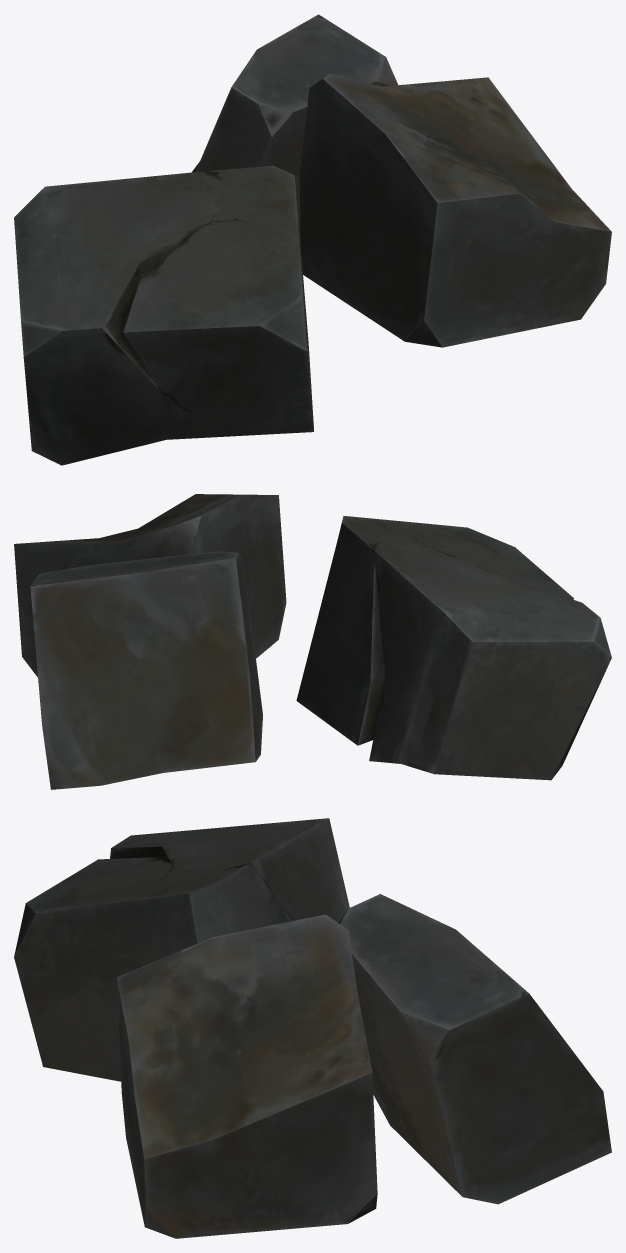
The picture shows the model from 3 angles, top to bottom: view 1: azimuth 30°, elevation 25°; view 2: azimuth 150°, elevation 25°; view 3: azimuth 270°, elevation 25°; orthographic projection. The views are drawn at different scales.
Visible parts, largest first — view 1: models_ruins_column_11-0-model; view 2: models_ruins_column_11-0-model; view 3: models_ruins_column_11-0-model.
Part boxes in pixels (x1,y1,x2,y2): models_ruins_column_11-0-model: (14,14,611,465); models_ruins_column_11-0-model: (14,494,611,789); models_ruins_column_11-0-model: (14,818,611,1238).
Bounding box in the file's own units: 6.33 × 2.63 × 5.44.
Materials: 1 (1 with a texture image).
